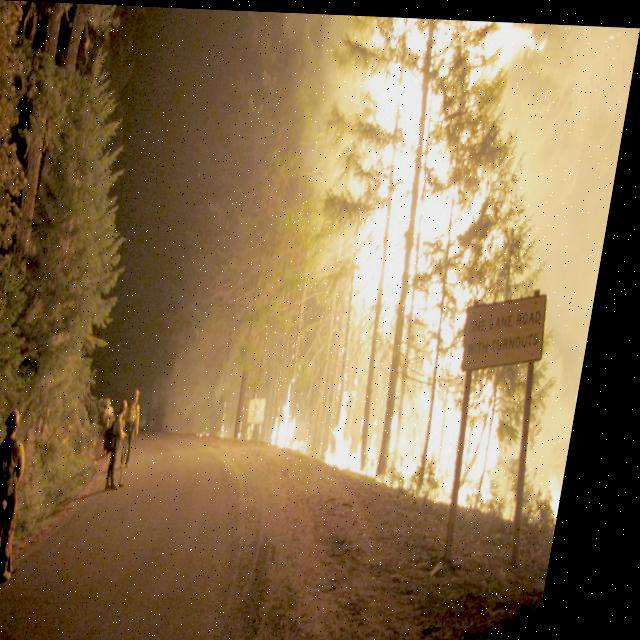Fire: (279, 12, 589, 494)
